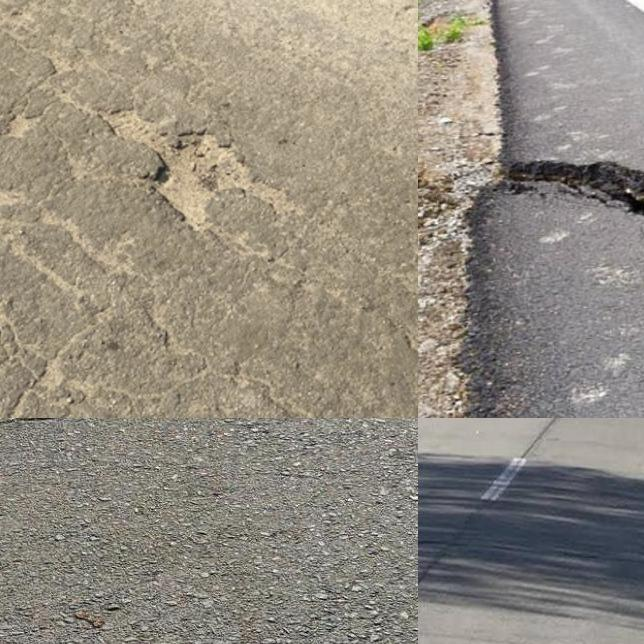Lubang: (103, 110, 285, 231)
Memanjang: (418, 418, 570, 619)
Pinggir: (429, 130, 644, 418)
